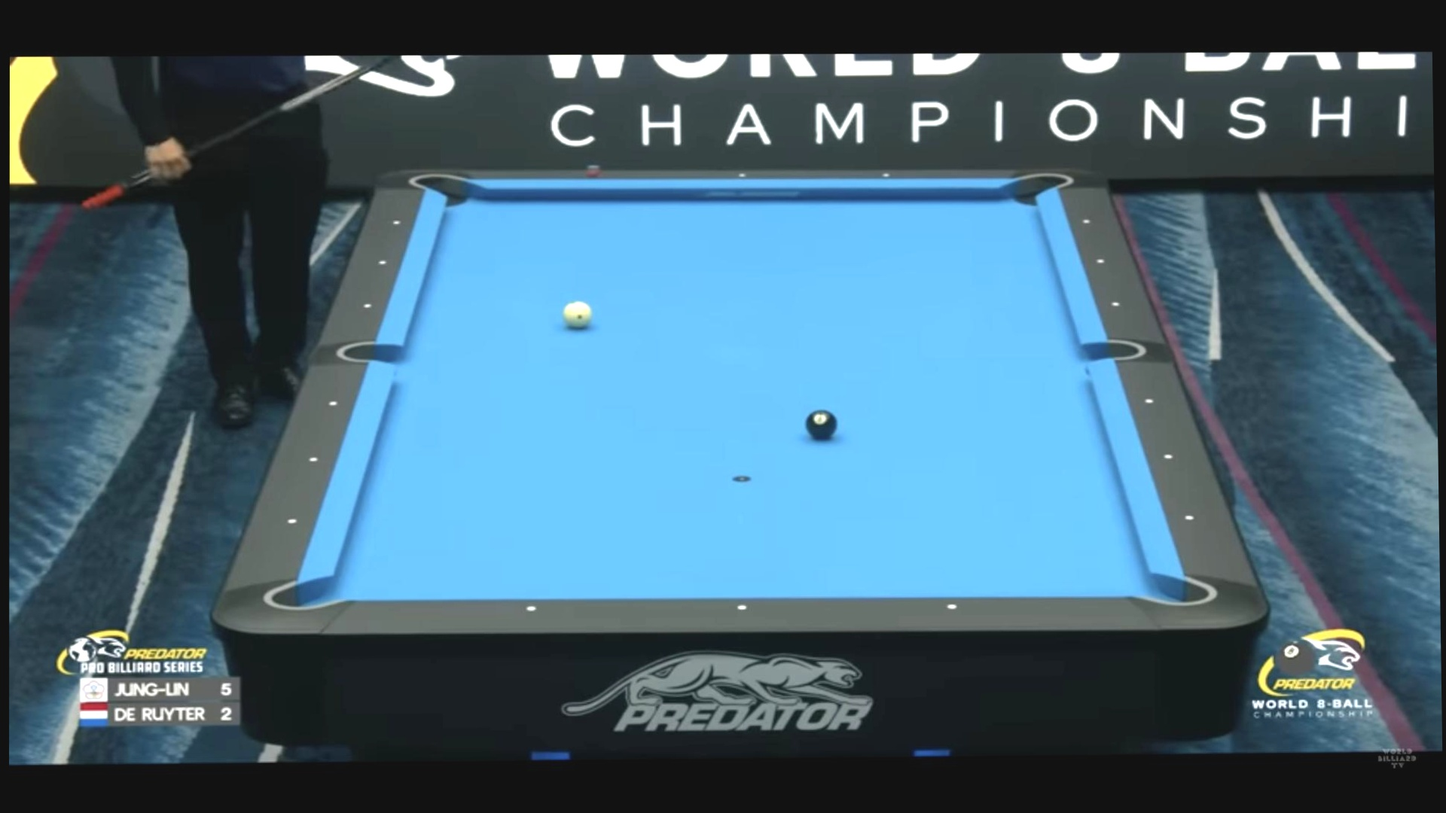Black: (804, 409, 837, 439)
Cue: (563, 300, 592, 329)
Solid: (736, 602, 749, 614), (1183, 512, 1196, 524), (1162, 450, 1175, 462), (1143, 396, 1156, 408), (525, 602, 537, 614), (946, 601, 958, 613), (327, 399, 339, 410), (287, 516, 298, 527), (308, 455, 320, 465), (1096, 258, 1107, 267), (1081, 217, 1092, 226), (737, 171, 748, 180), (1111, 300, 1121, 309), (882, 170, 892, 179), (363, 301, 372, 310), (392, 218, 401, 227), (378, 259, 387, 267)
